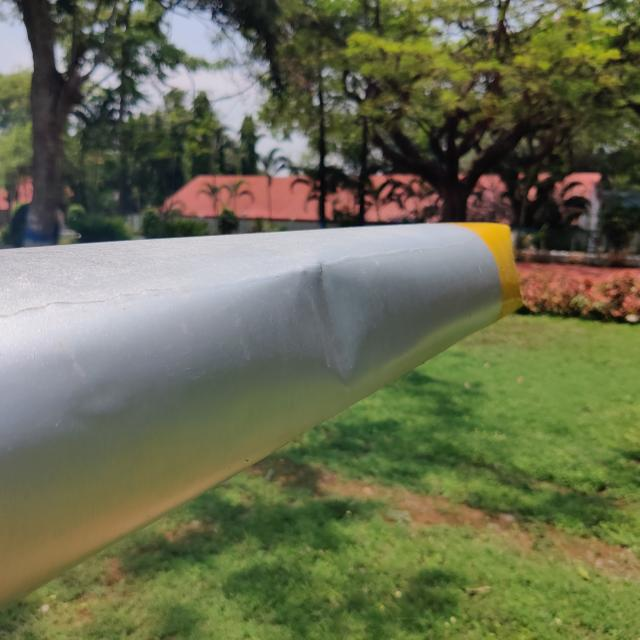dent: (282, 248, 392, 394)
